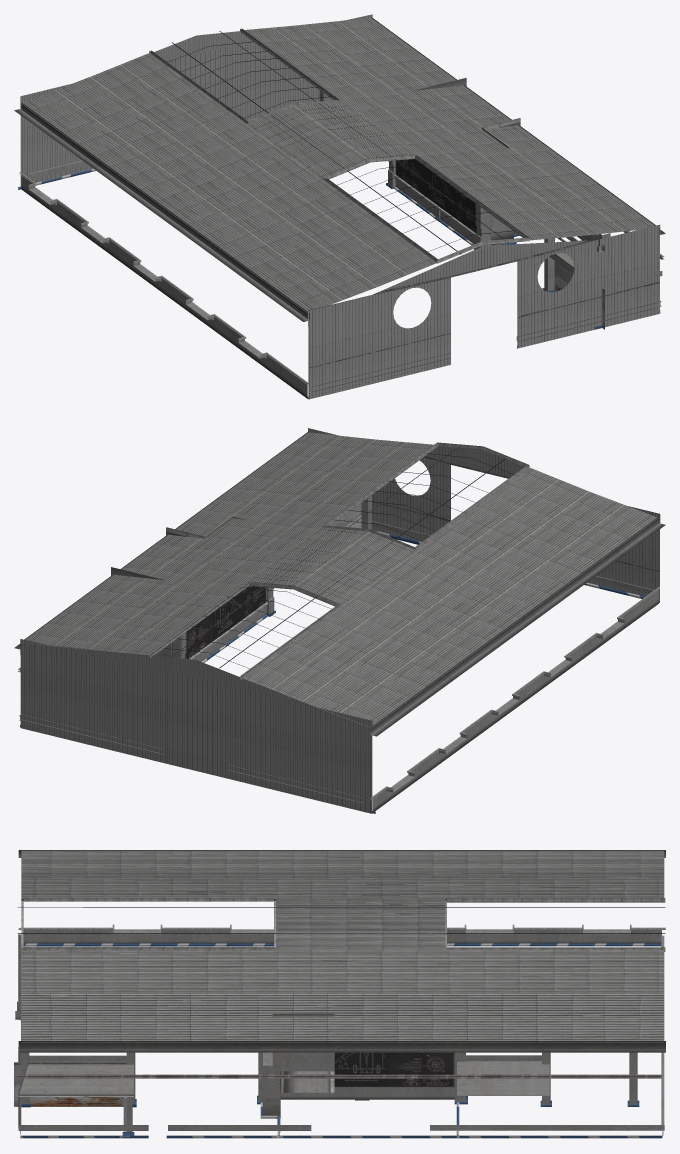
File: Scene_Garage03_Wall02.fbx
The picture shows the model from 3 angles, top to bottom: view 1: azimuth 30°, elevation 25°; view 2: azimuth 150°, elevation 25°; view 3: azimuth 270°, elevation 25°; orthographic projection. The views are drawn at different scales.
Parts seen in each view (by area): view 1: Scene_Garage03_Wall02C, Scene_Garage03_Wall02A, Scene_Garage03_Wall02B; view 2: Scene_Garage03_Wall02C, Scene_Garage03_Wall02A, Scene_Garage03_Wall02B; view 3: Scene_Garage03_Wall02C, Scene_Garage03_Wall02B, Scene_Garage03_Wall02A.
Part boxes in pixels (left/top/right/bottom): Scene_Garage03_Wall02C: left=21, top=18, right=654, bottom=313; Scene_Garage03_Wall02A: left=18, top=14, right=660, bottom=399; Scene_Garage03_Wall02B: left=14, top=17, right=665, bottom=398; Scene_Garage03_Wall02C: left=21, top=432, right=658, bottom=728; Scene_Garage03_Wall02A: left=20, top=428, right=660, bottom=813; Scene_Garage03_Wall02B: left=14, top=431, right=665, bottom=811; Scene_Garage03_Wall02C: left=17, top=850, right=665, bottom=1042; Scene_Garage03_Wall02B: left=14, top=850, right=665, bottom=1138; Scene_Garage03_Wall02A: left=18, top=934, right=664, bottom=1135.
Bounding box in the file's own units: 4067 × 1231 × 5643.
1 material, 1 textured.
